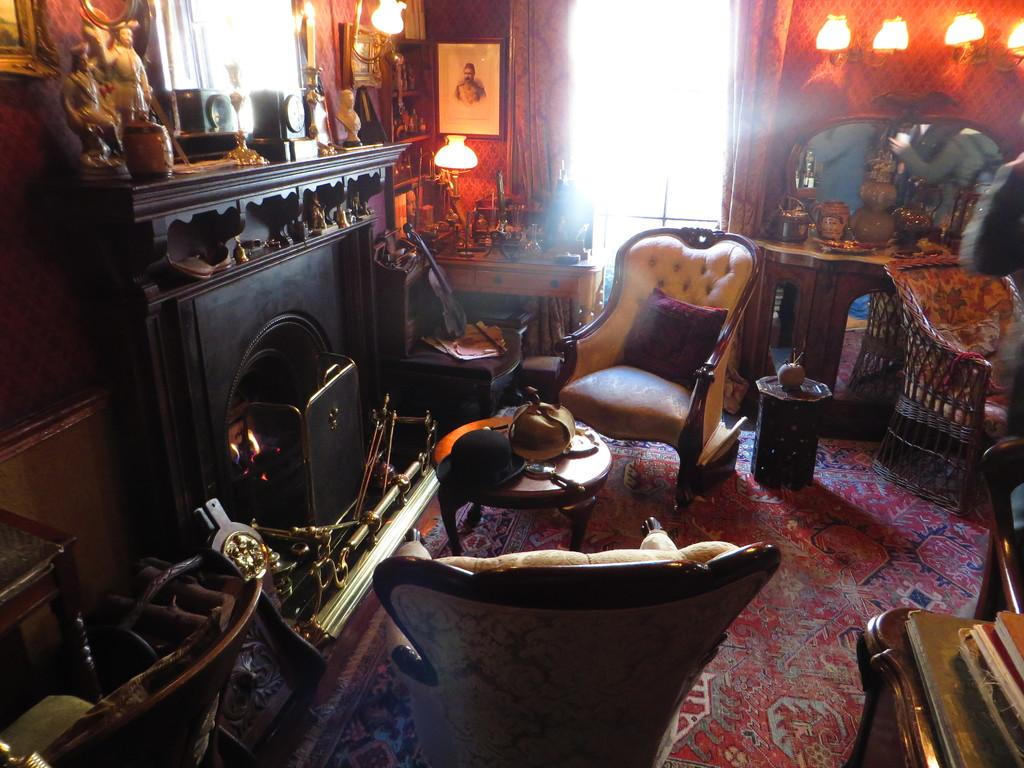Fire: (228, 420, 287, 486)
